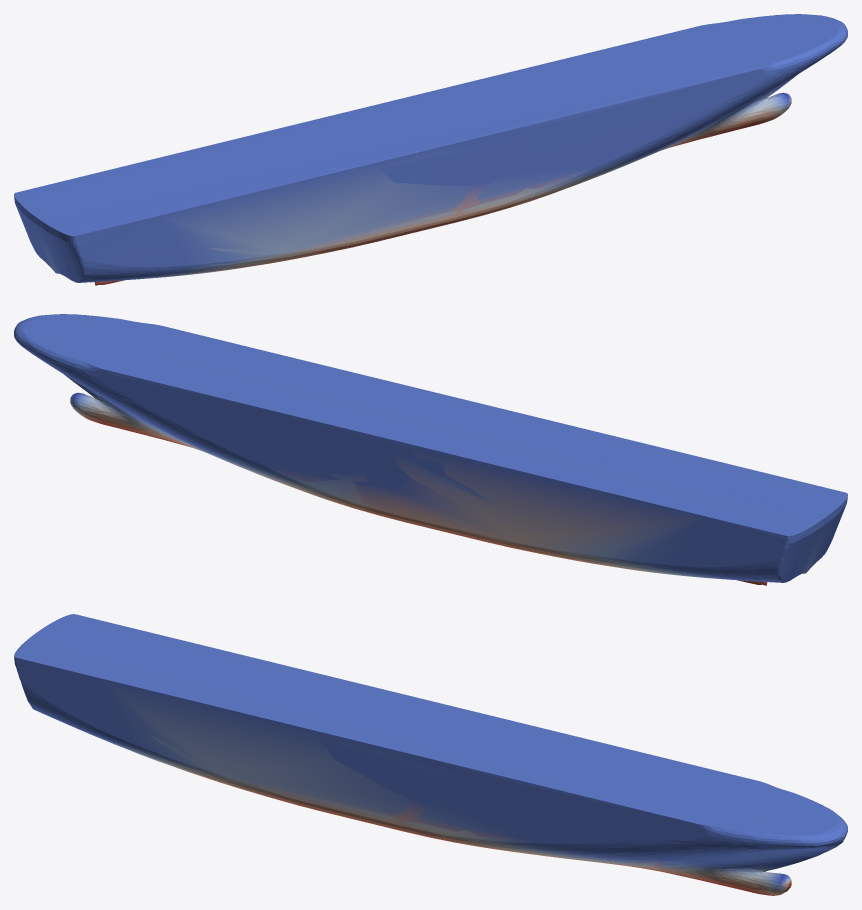
The model's file is hull.glb.
3 renders of one model, top to bottom at view 1: azimuth 30°, elevation 25°; view 2: azimuth 150°, elevation 25°; view 3: azimuth 330°, elevation 25°, orthographic.
Visible parts, largest first — view 1: hull_demo; view 2: hull_demo; view 3: hull_demo.
Boxes of the visible parts, left/top/right/bottom form: hull_demo: left=14, top=14, right=847, bottom=285; hull_demo: left=14, top=314, right=847, bottom=585; hull_demo: left=14, top=614, right=847, bottom=895.
Size of the model in its own units: 6.06 by 0.6032 by 0.7736.
